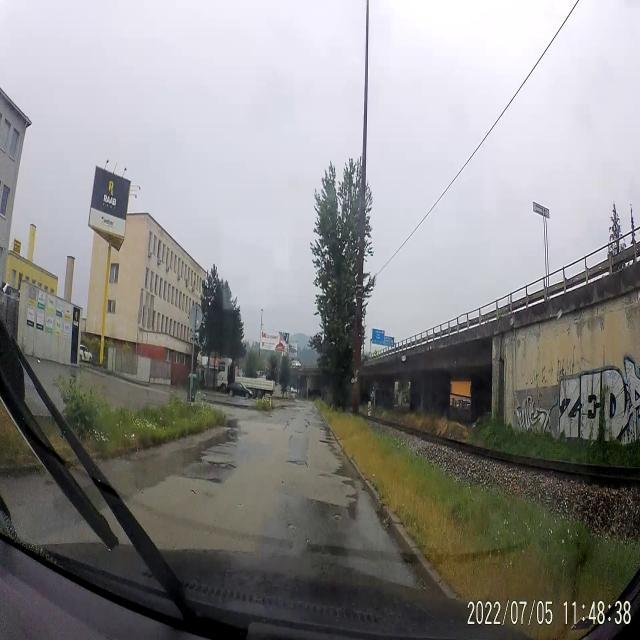Pothole: (205, 450, 238, 492), (286, 455, 311, 475)
